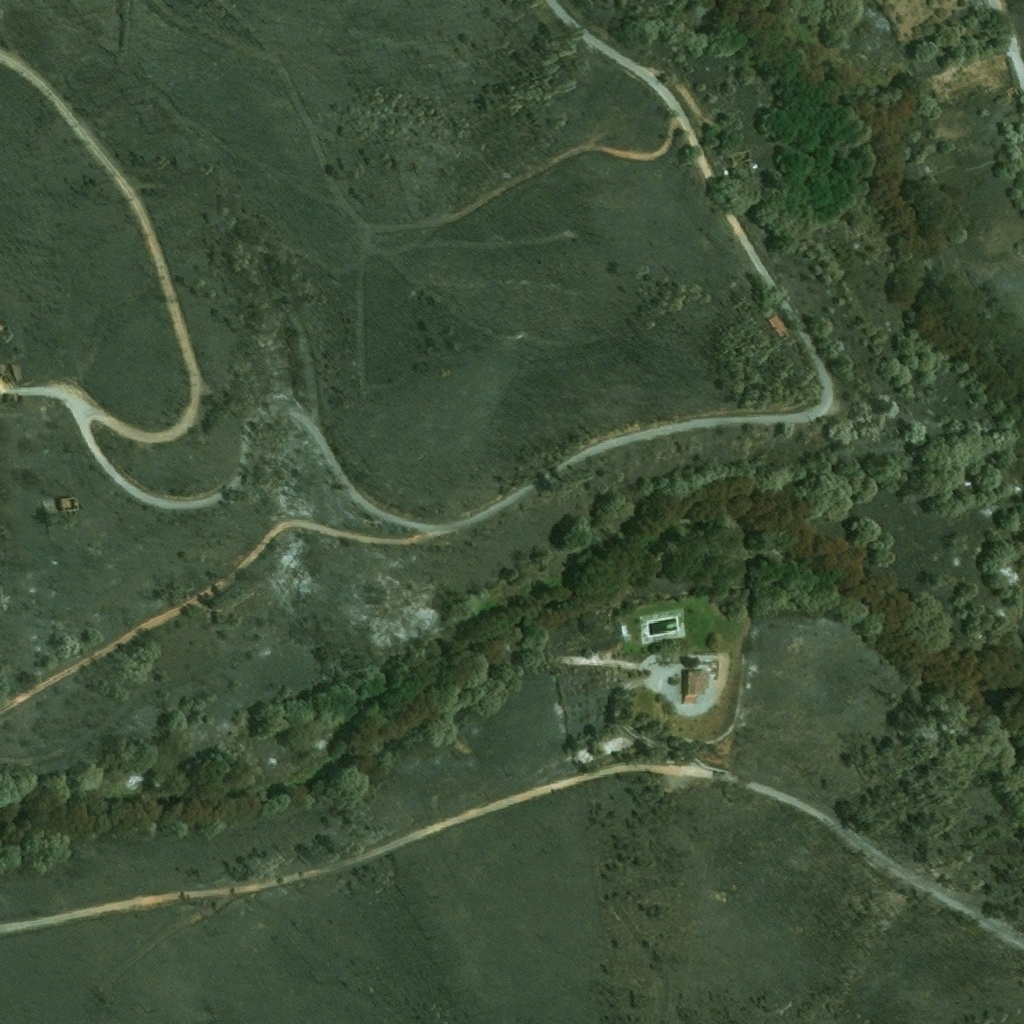0 no-damage: (680, 671, 702, 707), (56, 497, 78, 511), (0, 371, 8, 385), (708, 662, 717, 672)
4 un-classified: (1011, 207, 1021, 219)
